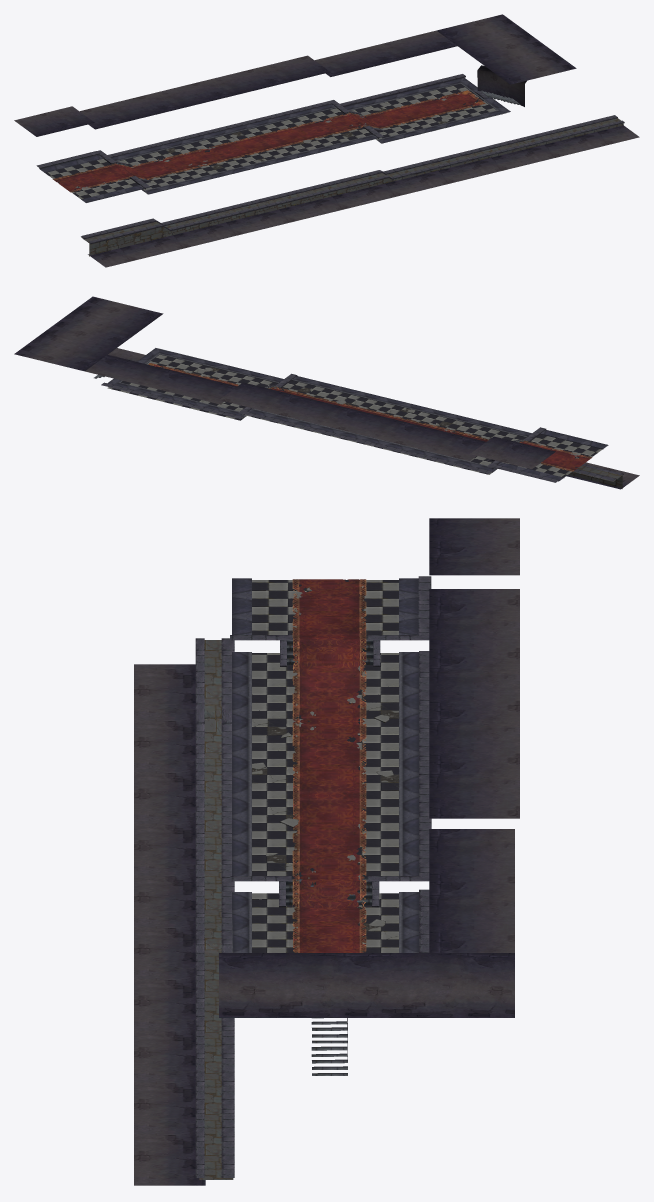
Rendered from terrain_section02_guanka07.FBX.
3 views of the same model, one above another, from view 1: azimuth 30°, elevation 25°; view 2: azimuth 150°, elevation 25°; view 3: azimuth 270°, elevation 25° (orthographic). The views are drawn at different scales.
Parts seen in each view (by area): view 1: terrain_section02_guanka07; view 2: terrain_section02_guanka07; view 3: terrain_section02_guanka07.
Part boxes in pixels (x1,y1,x2,y2): terrain_section02_guanka07: (14, 14, 639, 267); terrain_section02_guanka07: (14, 296, 639, 489); terrain_section02_guanka07: (134, 518, 519, 1185).
Bounding box in the file's own units: 122 × 16.58 × 38.04.
